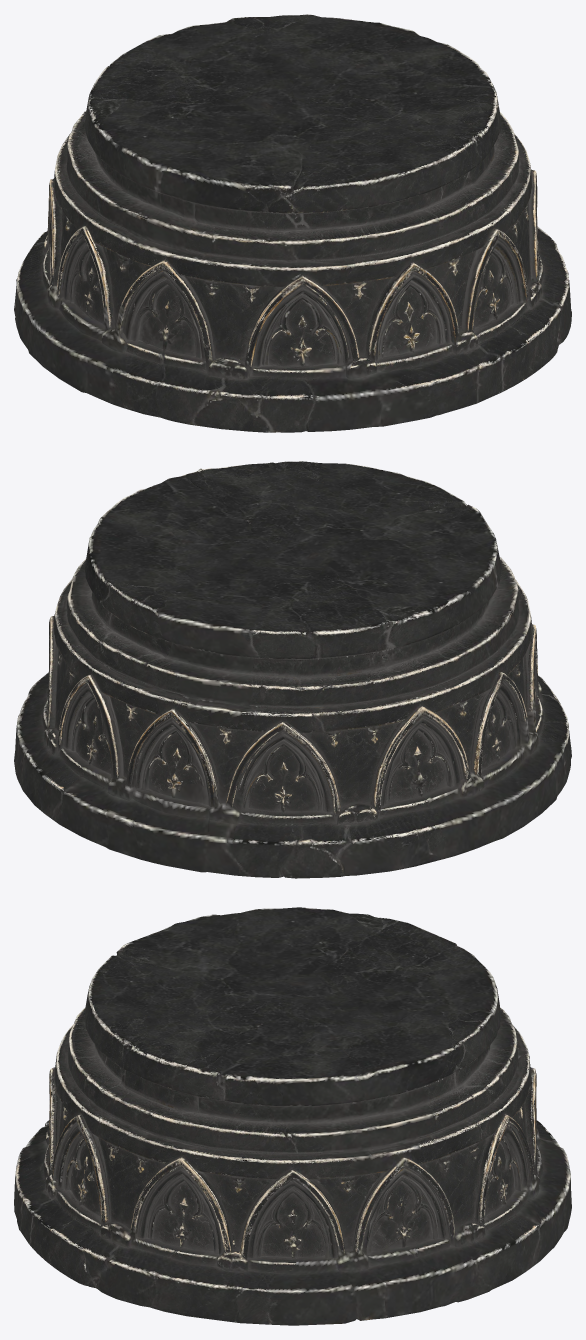
The model's file is base-black.glb.
The picture shows the model from 3 angles, top to bottom: view 1: azimuth 30°, elevation 25°; view 2: azimuth 150°, elevation 25°; view 3: azimuth 270°, elevation 25°; orthographic projection.
Parts seen in each view (by area): view 1: PieceBase; view 2: PieceBase; view 3: PieceBase.
Part boxes in pixels (x1,y1,x2,y2): PieceBase: (14,14,571,432); PieceBase: (14,461,571,878); PieceBase: (14,907,571,1325).
Size of the model in its own units: 1 by 0.4253 by 0.9991.
Materials: 1 (1 with a texture image).
